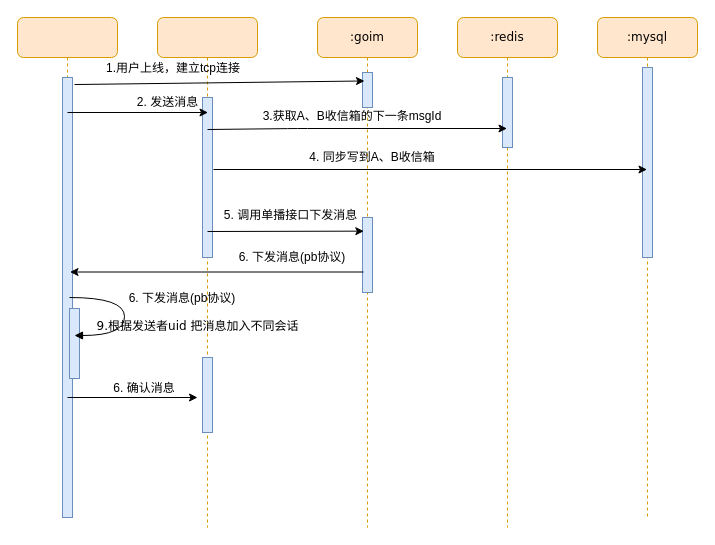
Image size: 715x545. Some labels were removed from this diagram. The box of each missing label's shape, as (x1, y1, x2, y2) in pixels:
:APP: (16, 16, 118, 518)
:imService: (156, 16, 258, 528)
